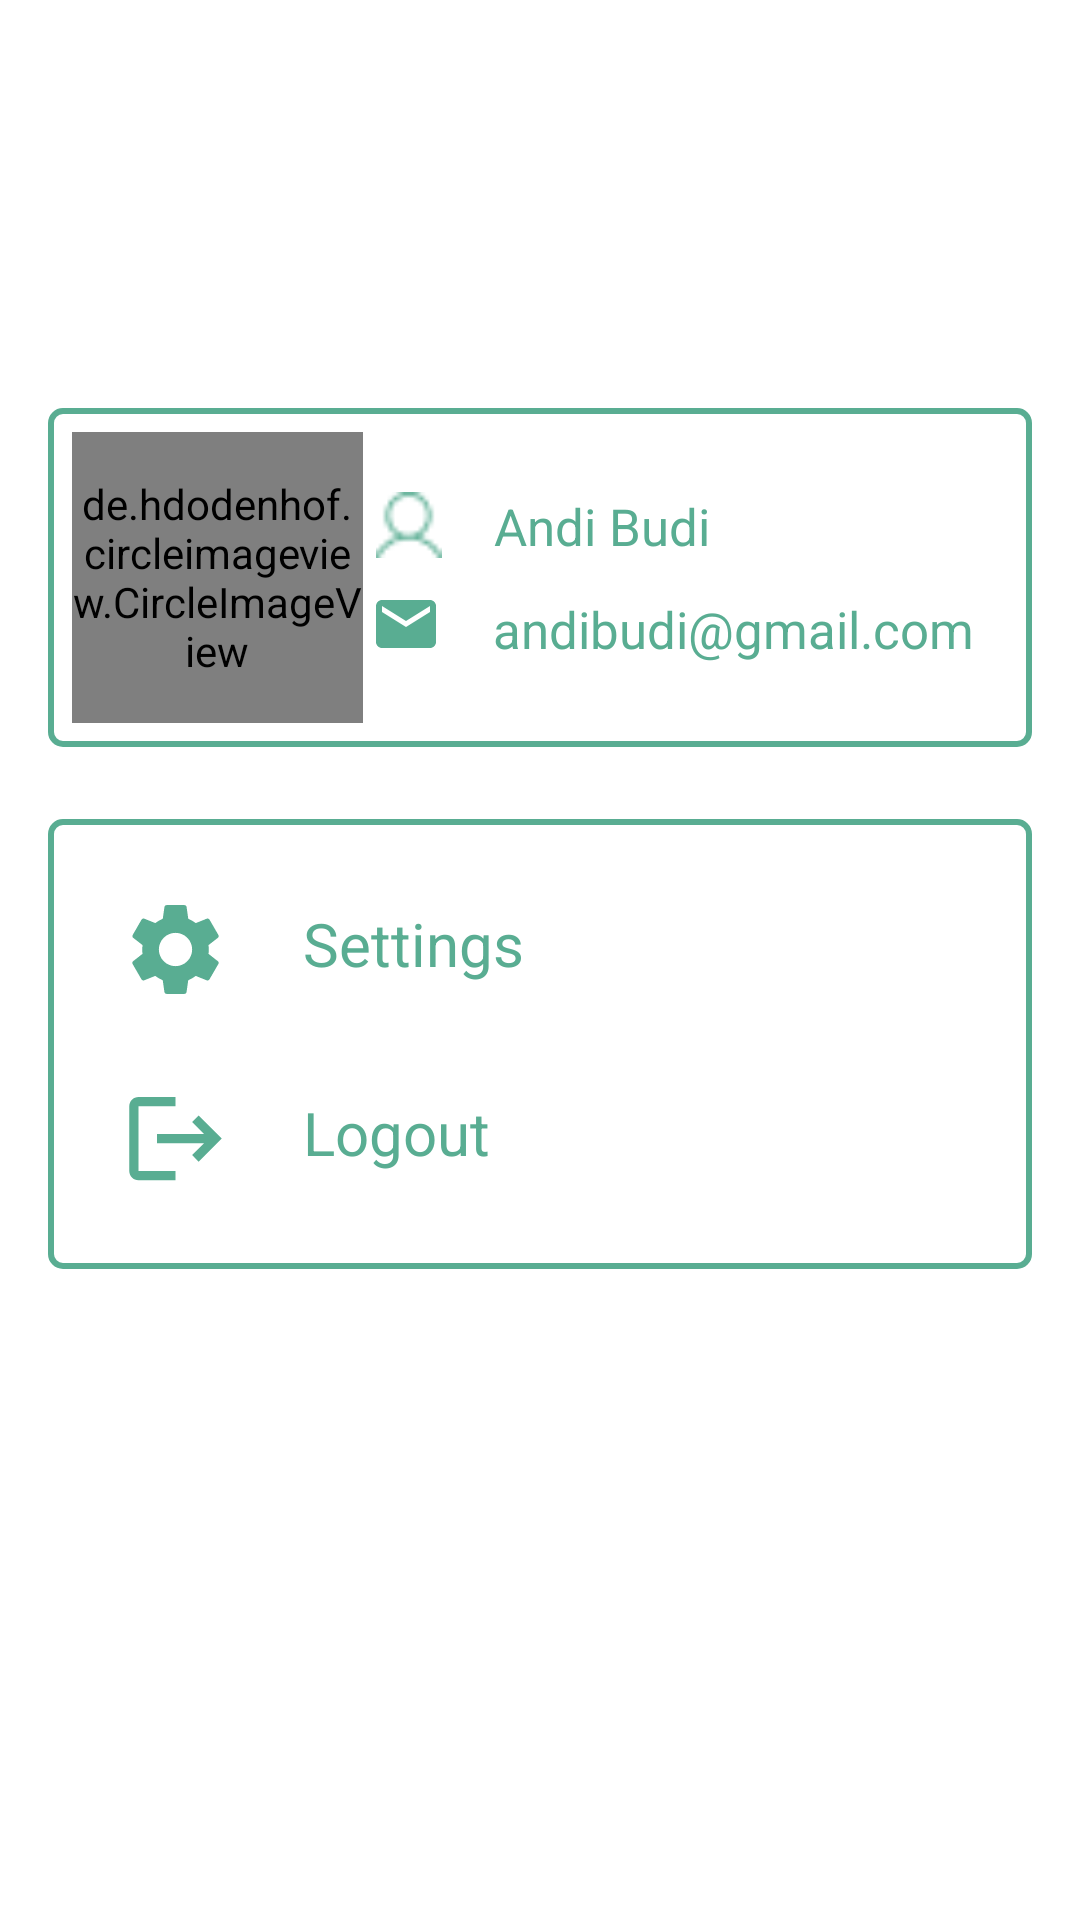

Point at icon controls on the screen. Image size 1080 x 1920, points as [x,y].
local post office: [406,624]
person: [409,525]
